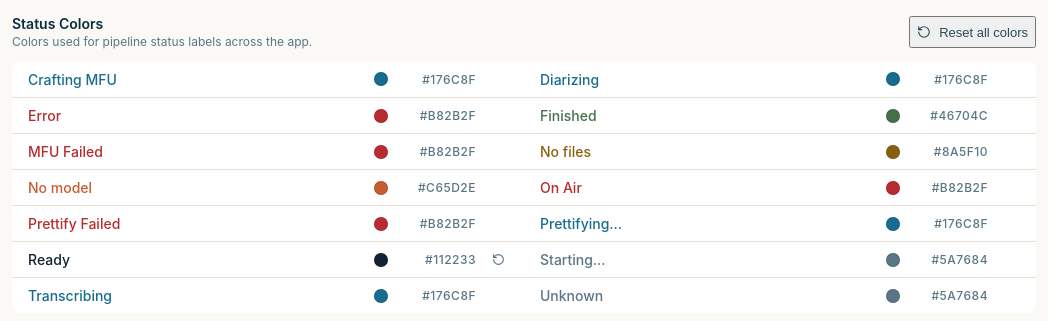
StatusColorsSection — revert › reverts to the default color without asking for confirmation
Click the button named "Revert Ready to default color" at (498, 260), box [490, 251, 506, 268]
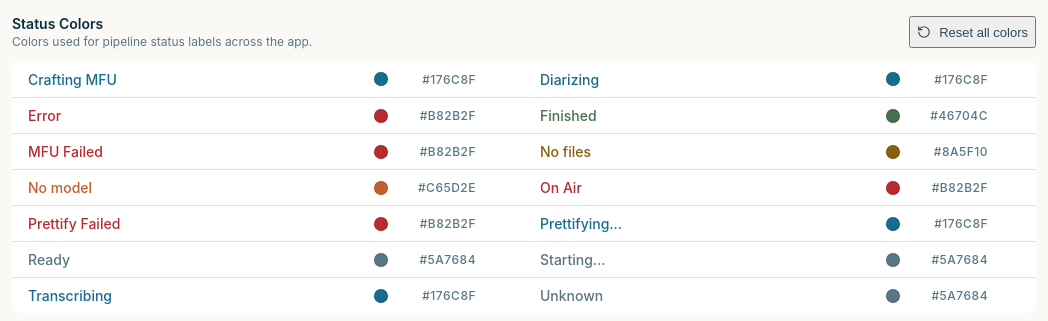
Result: the 1st text "#5A7684" is shown at [419, 252, 476, 267]
